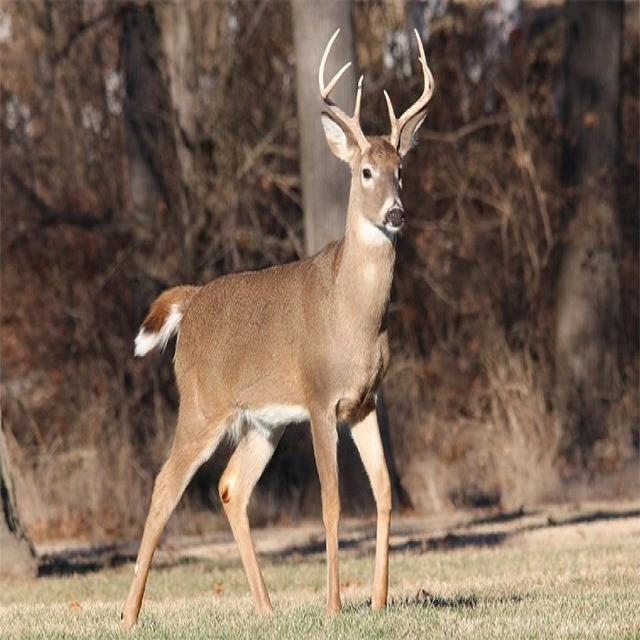deer: (123, 29, 433, 627)
